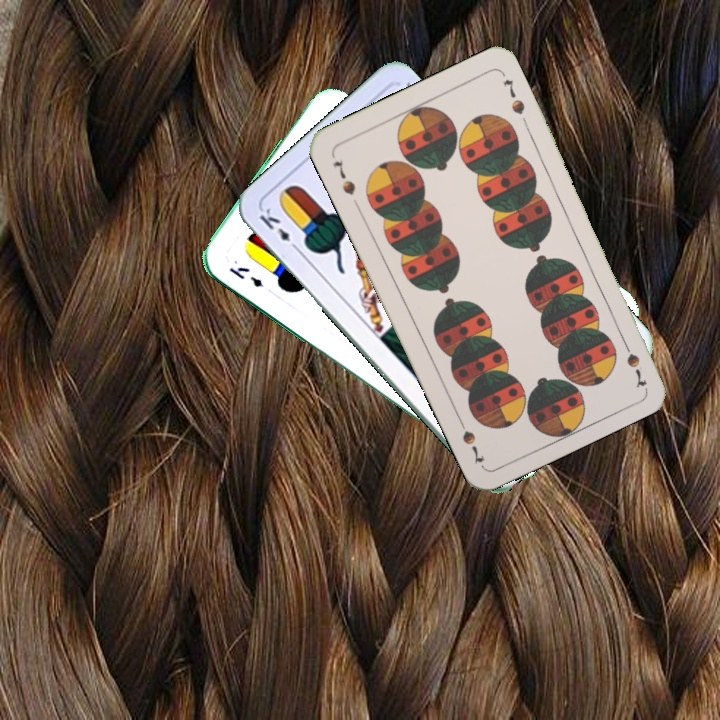EK: (255, 204, 303, 255), (224, 262, 265, 290)
S7: (617, 333, 650, 389), (329, 155, 358, 198)
